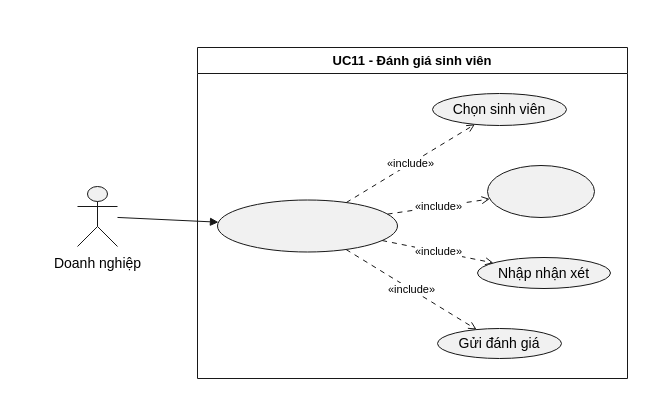
Some shapes in this 645 by 396 pixel diagram are drawn without their labels. Each missing label, with the centre of its shape:
"Nhập điểm đánh giá" goes at (x=540, y=191).
"Đánh giá sinh viên" goes at (x=307, y=225).
